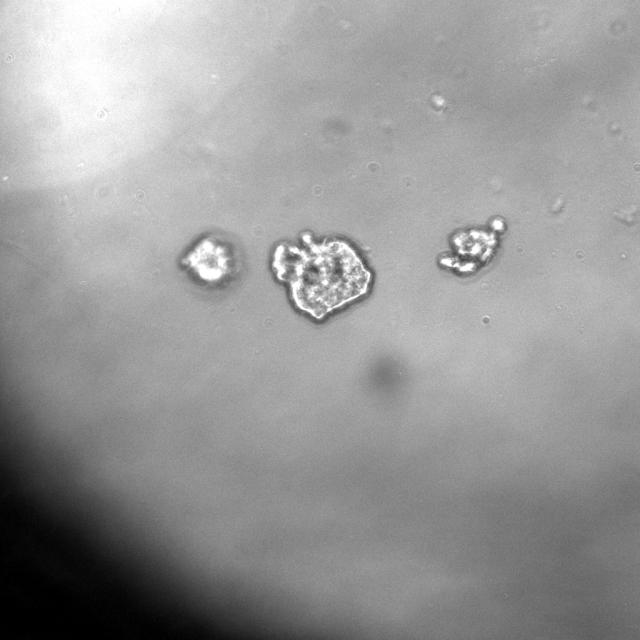organoid: (271, 230, 372, 323), (438, 215, 507, 277), (179, 229, 243, 291)
